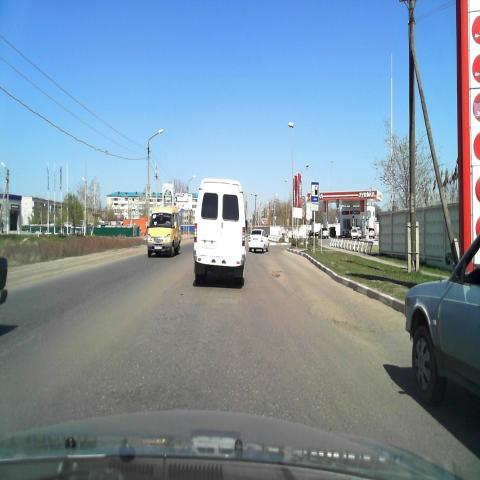7_3: (311, 182, 319, 202)
